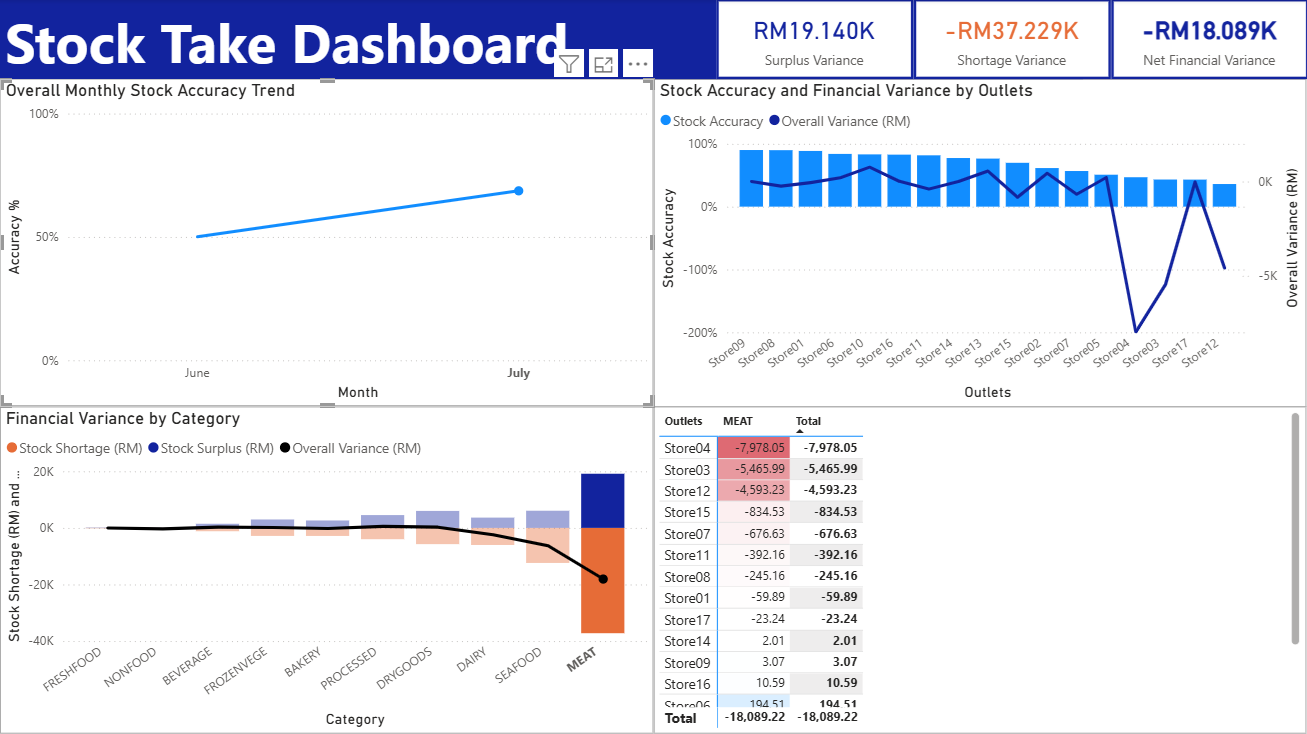

The dashboard page shown, as its layout file describes it:
{"tool":"powerbi","page":{"name":"Dashboard","canvas":[1280,720],"ordinal":0},"visuals":[{"type":"lineChart","title":"Overall Monthly Stock Accuracy Trend","fields":{"Y":["Combined.Accuracy %"],"Category":["Combined.Month.Variation.Date Hierarchy.Month"]},"box":[0,78.3,639.5,320.4],"z":0},{"type":"lineStackedColumnComboChart","title":"Stock Accuracy and Financial Variance by Outlets","fields":{"Category":["Combined.Outlets"],"Y":["Combined.Accuracy %"],"Y2":["Sum(Combined.FINAL Variance (RM))"]},"box":[640.1,77.8,638.8,320.8],"z":1000},{"type":"lineStackedColumnComboChart","title":"Financial Variance by Category","fields":{"Category":["Combined.Category"],"Y":["Sum(Combined.Stock Shortage RM)","Sum(Combined.Stock Surplus RM)"],"Y2":["Sum(Combined.FINAL Variance (RM))"]},"box":[0,398.6,639.5,320.4],"z":2000},{"type":"textbox","box":[0,0,1059,78.3],"z":3000},{"type":"card","fields":{"Values":["Sum(Combined.FINAL Variance (RM))"]},"box":[1087.3,0,193,78.5],"z":4000},{"type":"card","fields":{"Values":["Sum(Combined.Stock Shortage RM)"]},"box":[894.3,0,193,78.5],"z":6000},{"type":"card","fields":{"Values":["Sum(Combined.Stock Surplus RM)"]},"box":[701.2,0,193,78.5],"z":7000},{"type":"pivotTable","fields":{"Rows":["Combined.Outlets"],"Columns":["Combined.Category"],"Values":["Sum(Combined.FINAL Variance (RM))"]},"box":[639.5,398.6,638.3,320.4],"z":8000}]}

Visuals, with their boxes in screenshot pixels (x1, y1, x2, y2), scaled from the page's 1280x720 canvas onto the 1307x734 screenshot:
"Overall Monthly Stock Accuracy Trend" lineChart: 0,80,653,406
"Stock Accuracy and Financial Variance by Outlets" lineStackedColumnComboChart: 654,79,1306,406
"Financial Variance by Category" lineStackedColumnComboChart: 0,406,653,733
textbox: 0,0,1081,80
card - Sum(Combined.FINAL Variance (RM)): 1110,0,1306,80
card - Sum(Combined.Stock Shortage RM): 913,0,1110,80
card - Sum(Combined.Stock Surplus RM): 716,0,913,80
pivotTable - Combined.Outlets x Combined.Category: 653,406,1305,733
